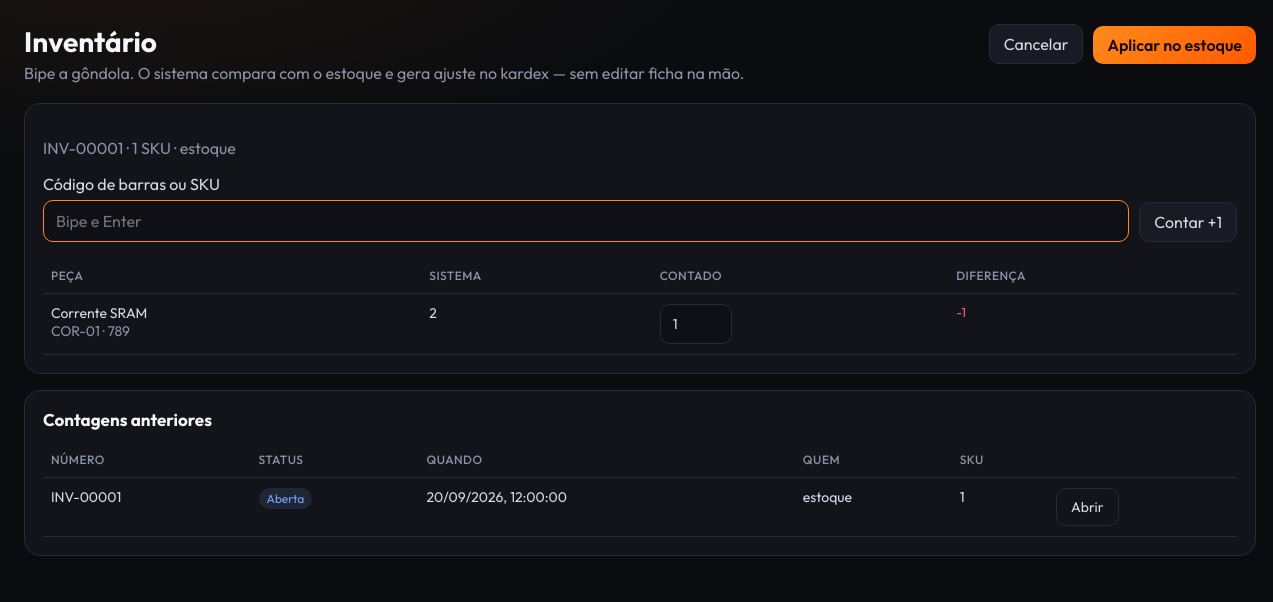
Scenario: Inventário › mostra o erro quando o qty da contagem falha
Replace the text in the number field showing "1" with "-1" at (696, 324), box [660,304,732,344]
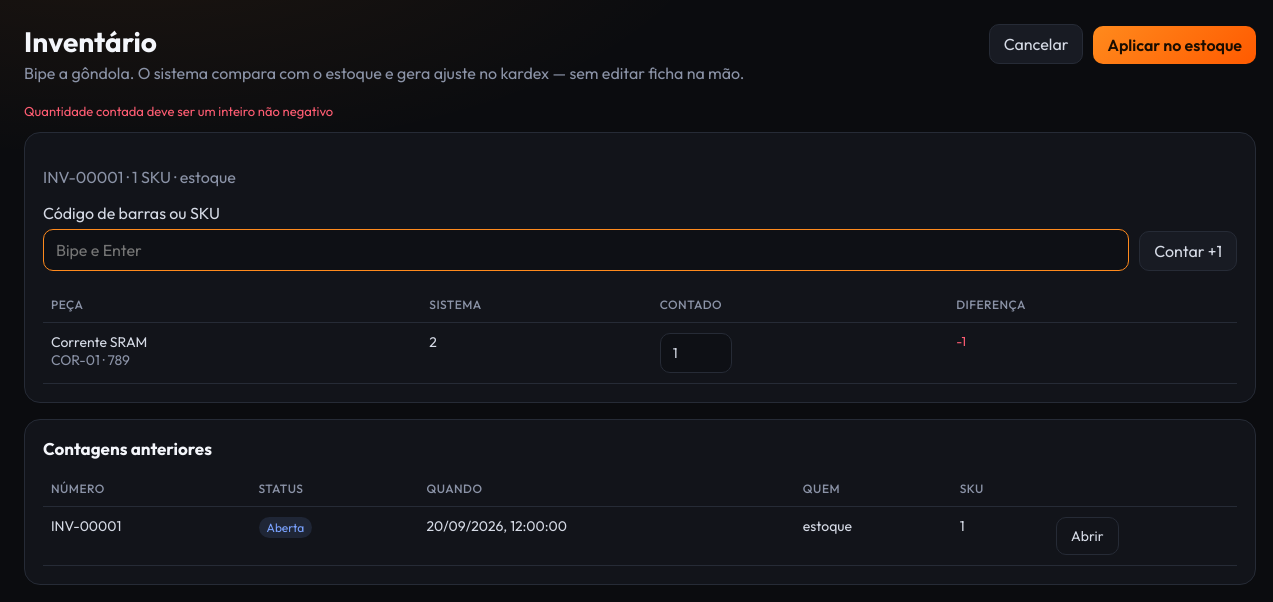
Expected: the number field showing "1" holds "1", [660,333,732,373]
Now the message shows "inteiro não negativo", box [24,103,333,119]
